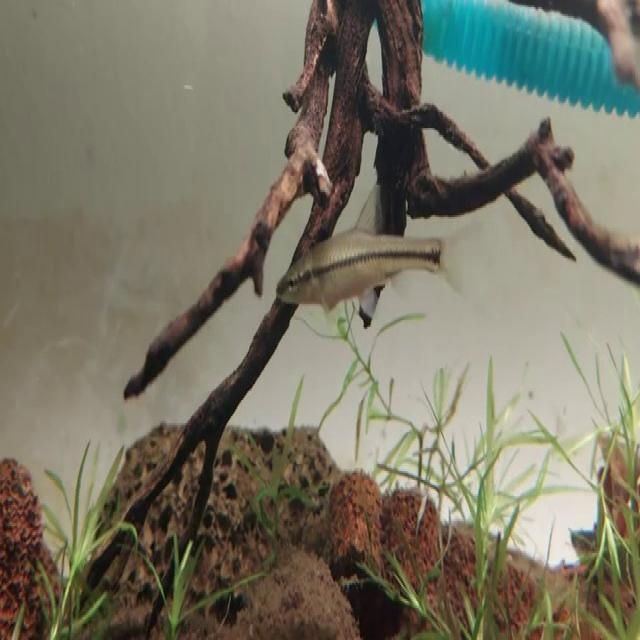Cakil Baligi: (278, 179, 478, 328)
